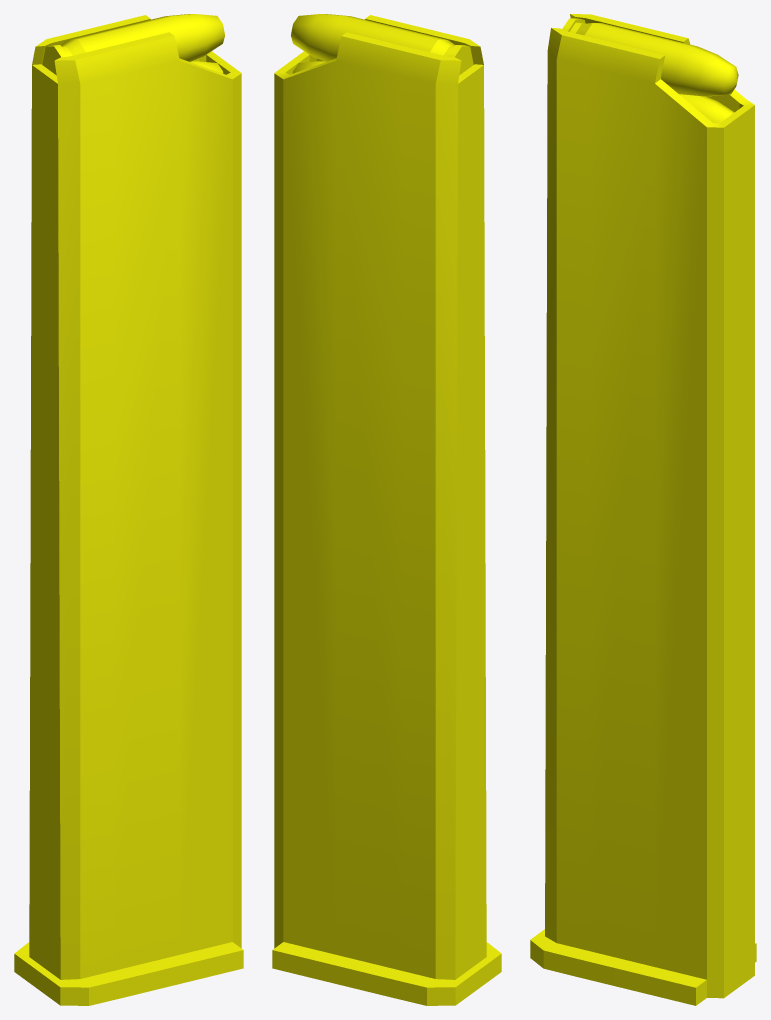
Rendered from SMG_01_AdditionalMeshes.glb.
3 renders of one model, left to right at view 1: azimuth 30°, elevation 25°; view 2: azimuth 150°, elevation 25°; view 3: azimuth 330°, elevation 25°, orthographic.
Visible parts, largest first — view 1: SMG_01_MagazineEmpty_Mesh, SMG_01_MagazineOneBullet_Mesh; view 2: SMG_01_MagazineEmpty_Mesh, SMG_01_MagazineOneBullet_Mesh; view 3: SMG_01_MagazineEmpty_Mesh, SMG_01_MagazineOneBullet_Mesh, SMG_01_Magazine2+Bullets_Mesh.
Boxes of the visible parts, x1,y1,x2,y2 form: SMG_01_MagazineEmpty_Mesh: (14, 15, 243, 1005); SMG_01_MagazineOneBullet_Mesh: (42, 14, 224, 75); SMG_01_MagazineEmpty_Mesh: (272, 15, 501, 1005); SMG_01_MagazineOneBullet_Mesh: (291, 14, 473, 75); SMG_01_MagazineEmpty_Mesh: (530, 14, 756, 1005); SMG_01_MagazineOneBullet_Mesh: (562, 18, 738, 96); SMG_01_Magazine2+Bullets_Mesh: (679, 94, 734, 123).
Bounding box in the file's own units: 0.0369 × 0.1752 × 0.0208.
2 materials, 2 textured.
